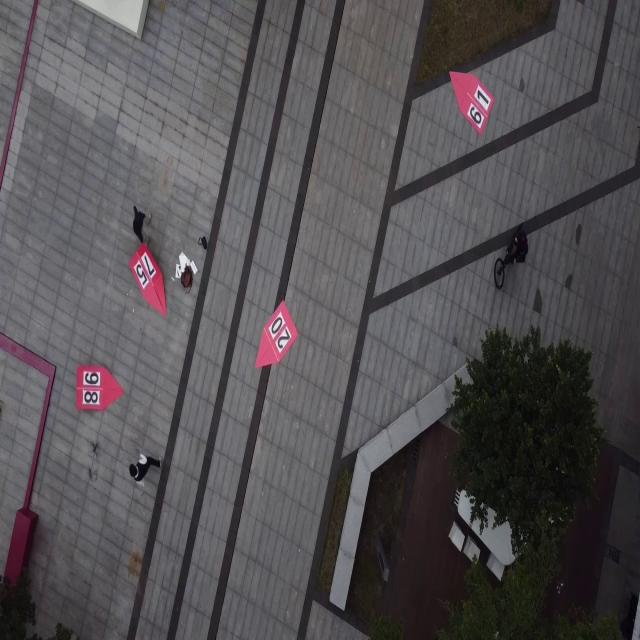-sign-: (254, 299, 299, 369), (448, 70, 493, 136), (129, 242, 168, 317), (75, 362, 124, 412)
